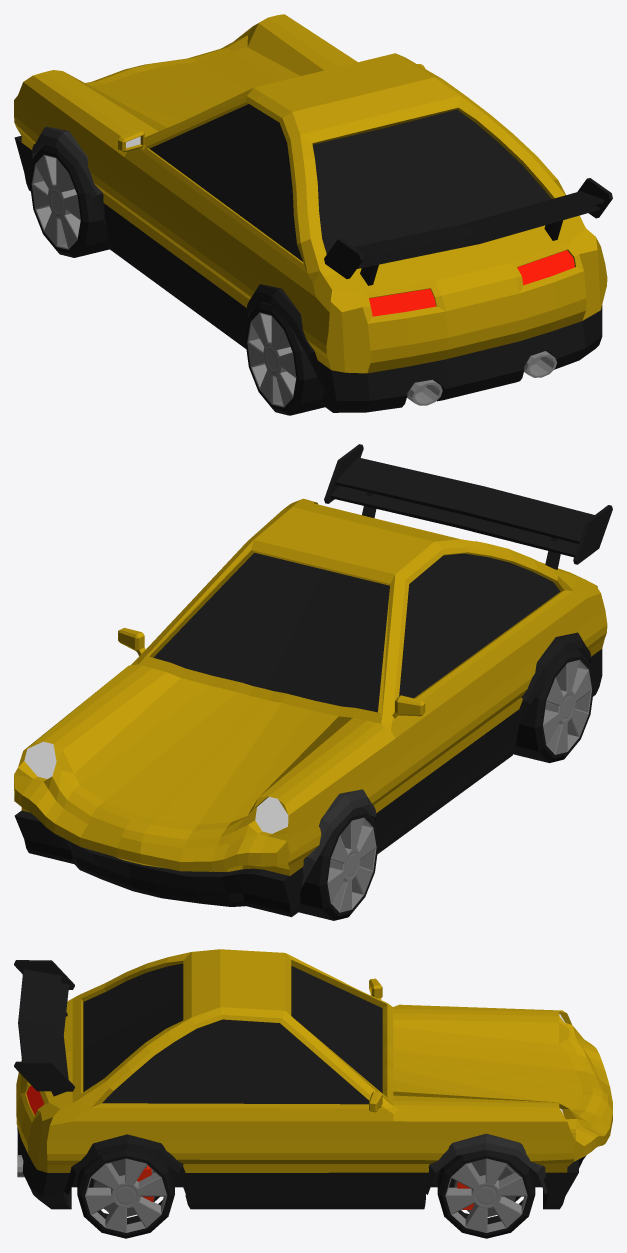
The model's file is porsche.fbx.
3 views of the same model, one above another, from view 1: azimuth 30°, elevation 25°; view 2: azimuth 150°, elevation 25°; view 3: azimuth 270°, elevation 25° (orthographic). The views are drawn at different scales.
Visible parts, largest first — view 1: Cube, Spoiler, Cylinder.006, Cylinder.005, WheelHolder, Auspuff; view 2: Cube, Spoiler, Cylinder.005, Cylinder.006, WheelHolder; view 3: Cube, Cylinder.004, Cylinder.003, Spoiler, WheelHolder, Brake.001, Brake.
Boxes of the visible parts, left/top/right/bottom form: Cube: left=14, top=14, right=607, bottom=412; Spoiler: left=324, top=178, right=612, bottom=285; Cylinder.006: left=29, top=144, right=109, bottom=257; Cylinder.005: left=245, top=302, right=324, bottom=415; WheelHolder: left=32, top=126, right=323, bottom=388; Auspuff: left=407, top=351, right=556, bottom=405; Cube: left=14, top=498, right=607, bottom=917; Spoiler: left=324, top=444, right=612, bottom=569; Cylinder.005: left=513, top=649, right=593, bottom=762; Cylinder.006: left=299, top=807, right=378, bottom=920; WheelHolder: left=301, top=632, right=591, bottom=887; Cube: left=16, top=949, right=612, bottom=1209; Cylinder.004: left=437, top=1149, right=535, bottom=1238; Cylinder.003: left=77, top=1149, right=174, bottom=1238; Spoiler: left=14, top=960, right=74, bottom=1096; WheelHolder: left=64, top=1133, right=547, bottom=1194; Brake.001: left=449, top=1159, right=520, bottom=1216; Brake: left=88, top=1159, right=159, bottom=1216.
Size of the model in its own units: 166 by 125 by 337.
